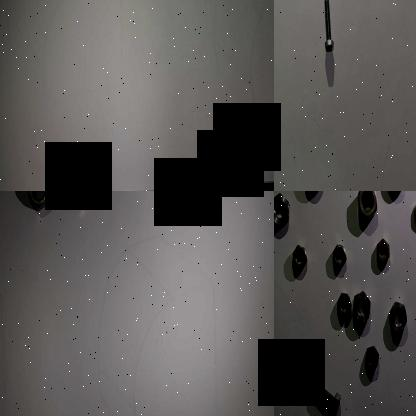Bolts: (308, 373, 344, 416), (321, 0, 340, 54)
NUTS: (386, 298, 410, 342), (352, 286, 374, 323), (274, 191, 293, 233), (357, 191, 379, 223), (336, 286, 352, 328), (364, 344, 384, 376), (292, 242, 310, 274), (27, 191, 51, 213), (375, 237, 392, 265), (332, 243, 349, 271), (72, 191, 92, 208), (412, 197, 416, 233)
